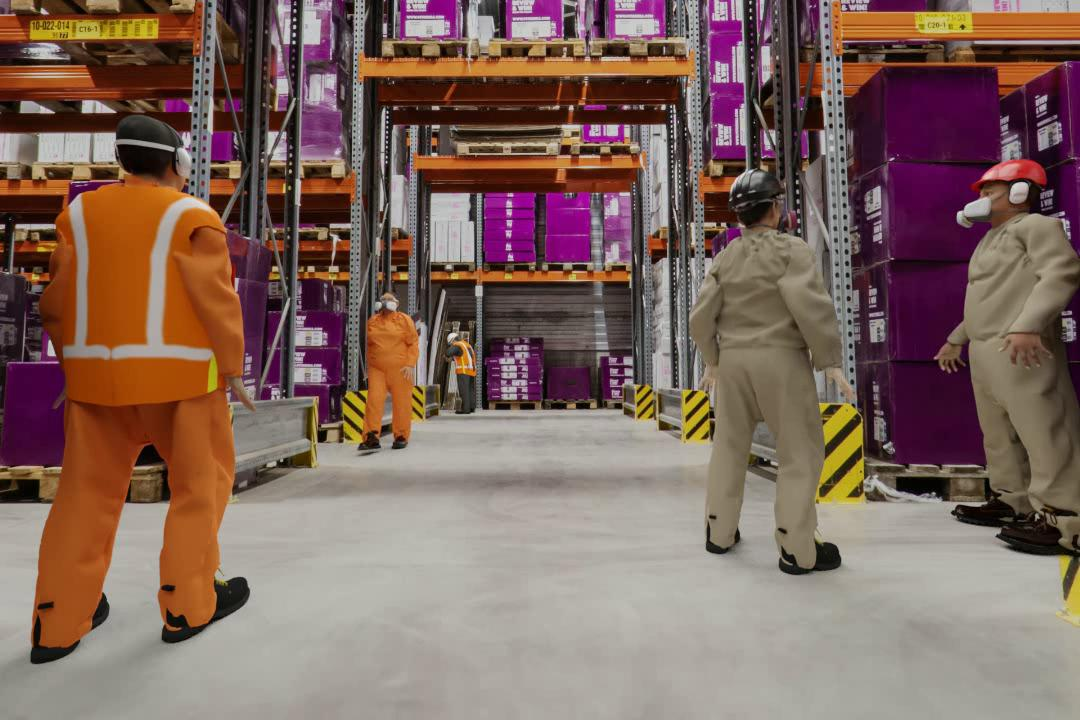Helmet: (721, 170, 789, 207), (968, 157, 1045, 189), (446, 333, 458, 340)
Jacket: (62, 187, 211, 401), (454, 339, 476, 374)
Shoes: (23, 588, 112, 667), (160, 573, 253, 647), (999, 518, 1079, 560), (952, 491, 1027, 523), (780, 537, 843, 575), (356, 436, 382, 450), (391, 437, 406, 450), (455, 408, 470, 415)
